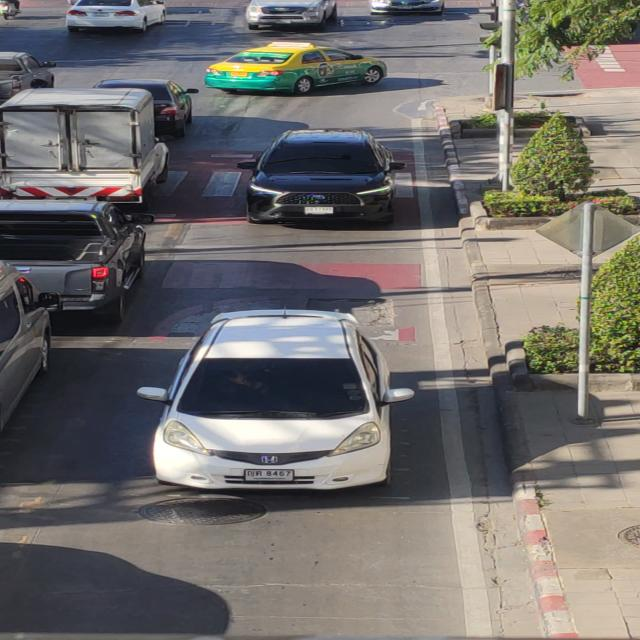car: (125, 298, 442, 522), (229, 122, 433, 238)
